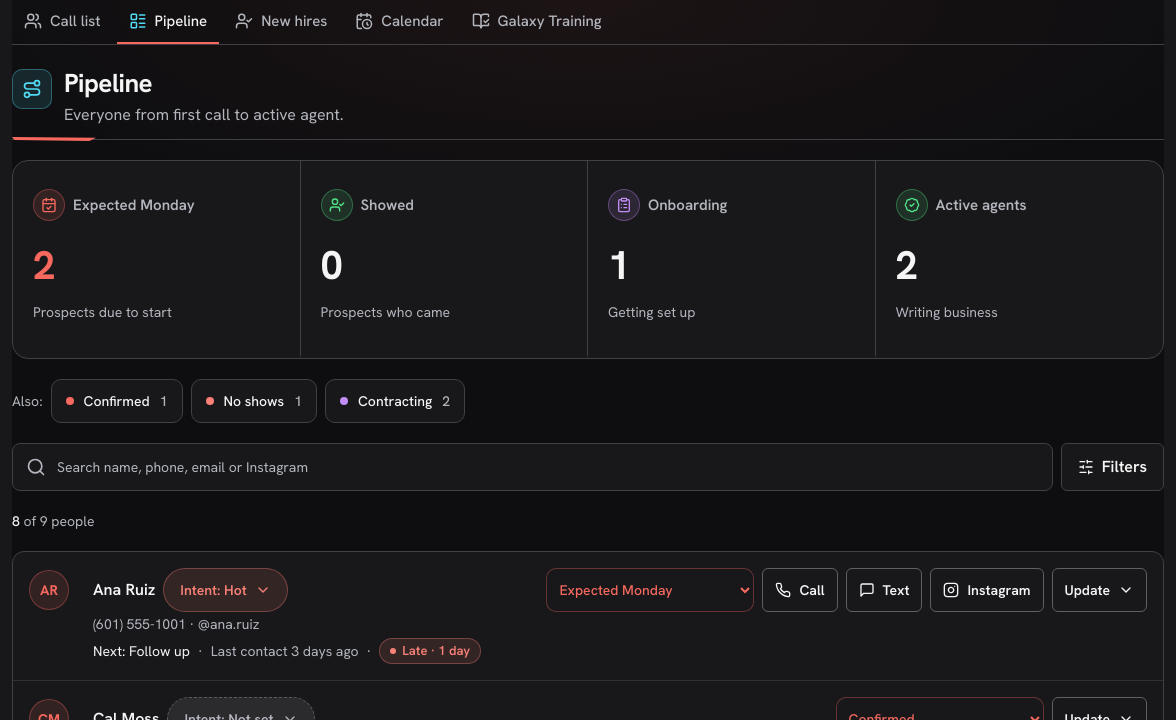
Test: Recruiting Pipeline › counts Expected Monday over prospects only and opens exactly the people it counts
The image size is (1176, 720).
Expected: the text "Ana Ruiz" is shown, [93,578,155,602]
Expected: the element showing "8 of 9 people" is shown, [12,511,95,531]
Click the button "Expected Monday 2 Prospects due to start": coordinates (49, 205) [13,161,300,358]
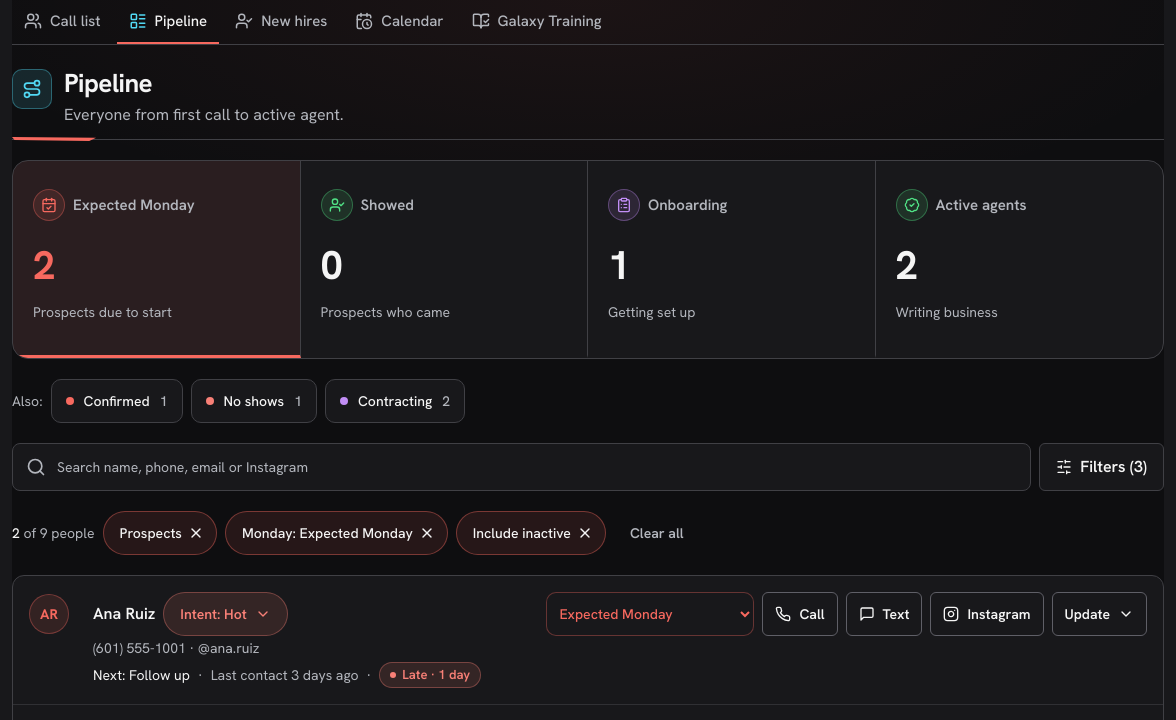
Expected: the element showing "2 of 9 people" is shown, [12,523,95,543]
Expected: the button with aria-label "Remove Prospects filter" is shown, [103,511,217,555]
Expected: the button with aria-label "Remove Monday: Expected Monday filter" is shown, [225,511,448,555]
